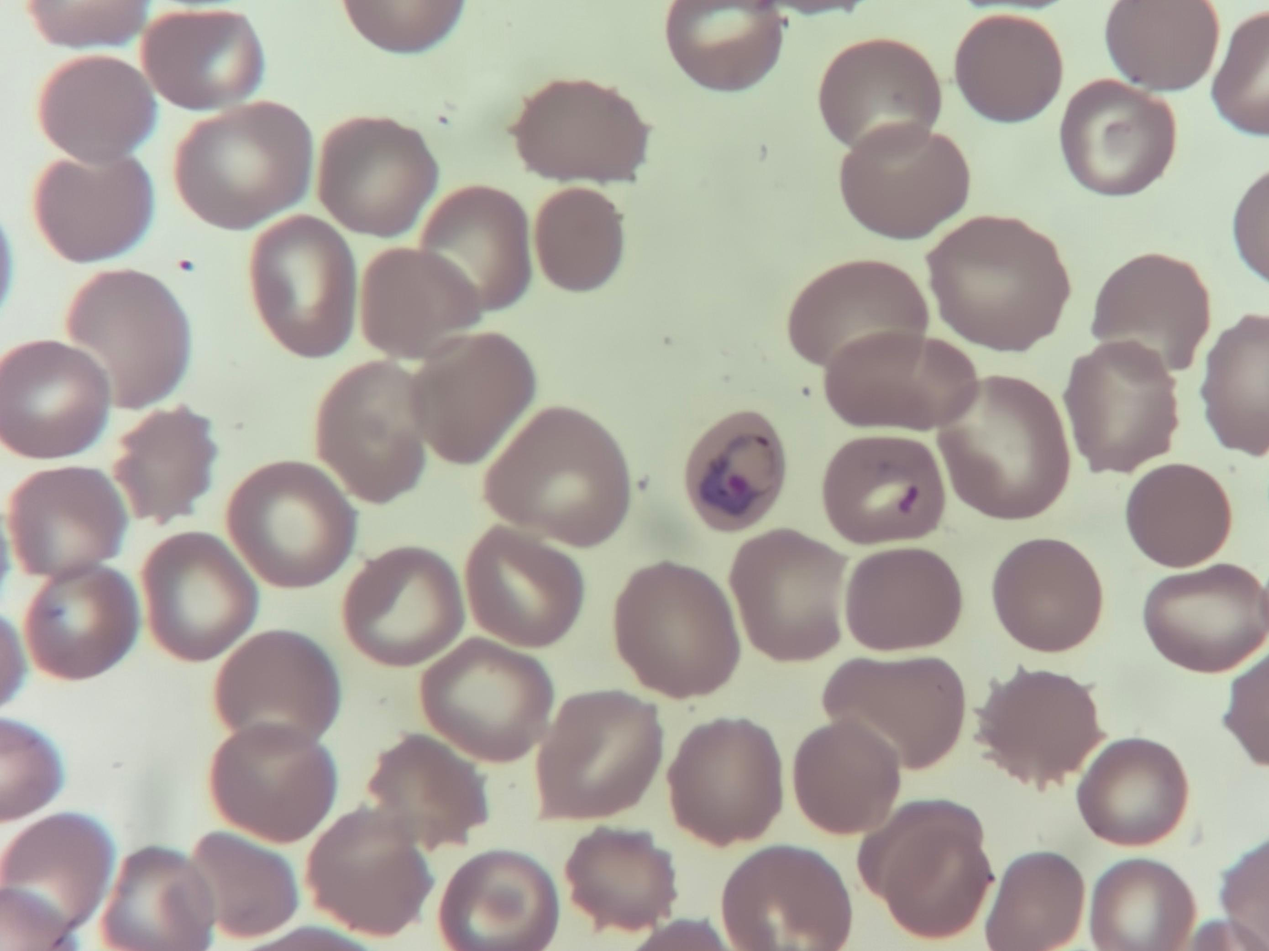Infected: (685, 412, 787, 530)
Uninfected: (920, 213, 1073, 353), (484, 407, 626, 544), (937, 381, 1067, 519), (861, 805, 993, 938), (65, 271, 191, 408), (176, 102, 310, 227), (420, 638, 552, 762), (533, 692, 660, 820), (827, 653, 962, 772), (411, 334, 535, 463), (304, 809, 431, 934), (972, 663, 1101, 786), (614, 564, 735, 695), (225, 465, 353, 588), (315, 362, 426, 500), (825, 329, 974, 431), (248, 216, 357, 355), (729, 531, 848, 658), (1064, 342, 1179, 471), (465, 528, 587, 649), (1090, 252, 1212, 370), (510, 80, 647, 185), (141, 533, 255, 659), (210, 725, 333, 841), (789, 261, 922, 367), (666, 718, 778, 842), (839, 129, 966, 238), (317, 117, 435, 234), (1059, 79, 1177, 196), (212, 631, 336, 742), (822, 436, 947, 546), (421, 187, 530, 313), (6, 464, 125, 579), (343, 548, 462, 663), (359, 247, 479, 361), (2, 815, 111, 940), (367, 735, 486, 849), (721, 847, 849, 951), (24, 564, 139, 679), (39, 56, 156, 167), (1, 339, 112, 455), (844, 545, 962, 654), (819, 40, 938, 147), (36, 156, 152, 265), (1143, 566, 1263, 670), (993, 537, 1102, 651), (142, 10, 263, 111), (793, 721, 898, 836), (564, 826, 675, 933), (111, 404, 215, 518), (439, 851, 556, 951), (1126, 463, 1234, 568), (194, 834, 298, 942), (1077, 741, 1185, 844), (956, 15, 1061, 119), (101, 851, 210, 951), (1108, 0, 1217, 90), (666, 2, 779, 88), (1087, 859, 1192, 949), (985, 856, 1085, 950), (535, 187, 626, 290)
